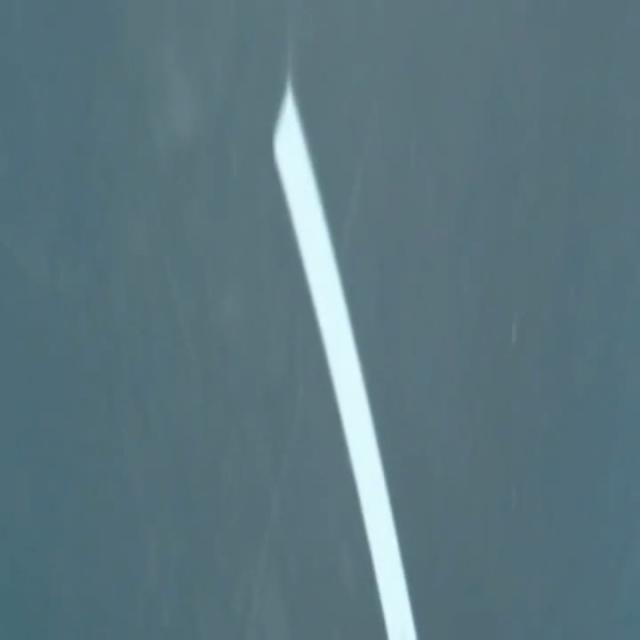center: (274, 72, 417, 639)
